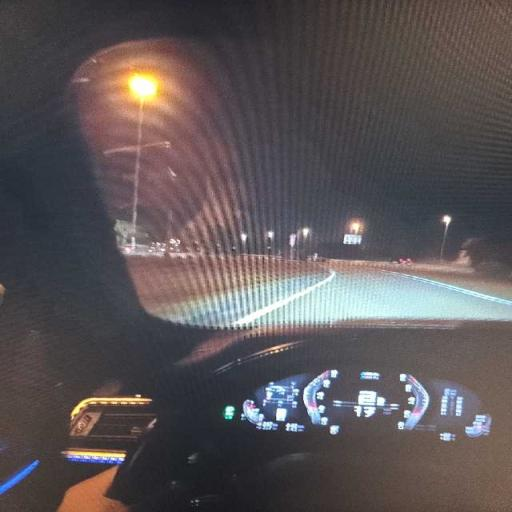car: (0, 0, 511, 511), (390, 256, 413, 266)
lane: (160, 269, 511, 327), (151, 271, 330, 327)
